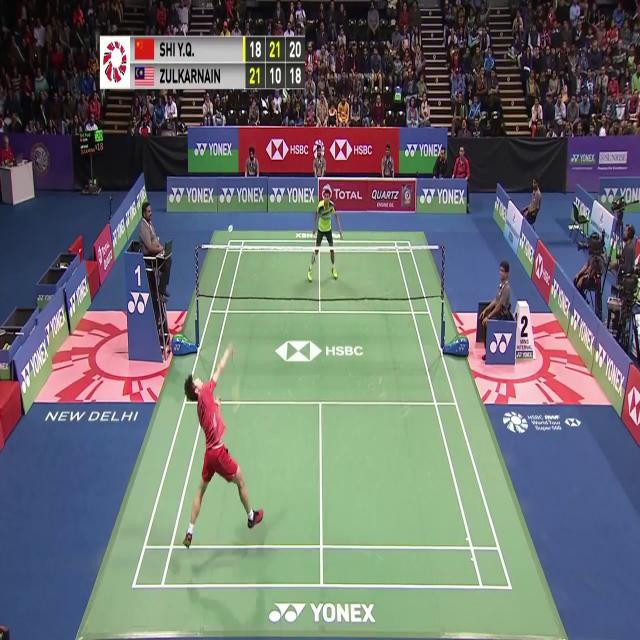Shuttlecock: (226, 223, 233, 234)
